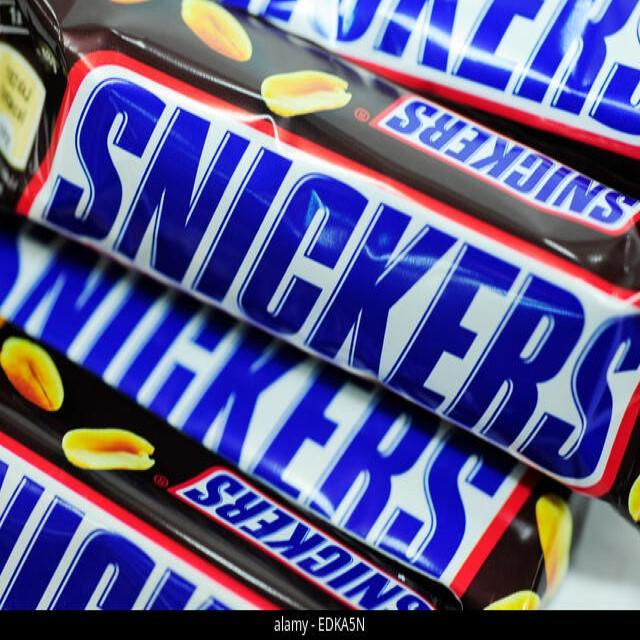snickers_chocolate: (0, 193, 566, 613), (80, 71, 640, 466), (116, 0, 639, 246)
